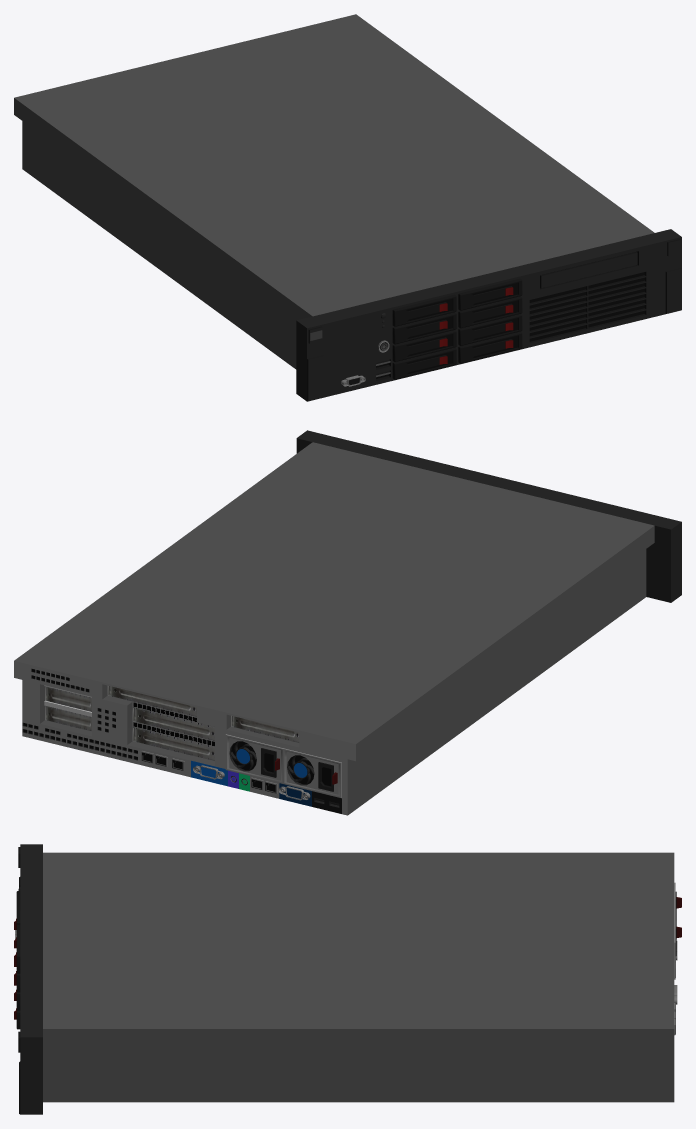
3 renders of one model, top to bottom at view 1: azimuth 30°, elevation 25°; view 2: azimuth 150°, elevation 25°; view 3: azimuth 270°, elevation 25°, orthographic. The views are drawn at different scales.
Parts seen in each view (by area): view 1: HPE_DL380_G7; view 2: HPE_DL380_G7; view 3: HPE_DL380_G7.
Boxes of the visible parts, x1=… form: HPE_DL380_G7: x1=14, y1=14, x2=681, y2=401; HPE_DL380_G7: x1=14, y1=430, x2=681, y2=815; HPE_DL380_G7: x1=14, y1=844, x2=681, y2=1114.
Size of the model in its own units: 475 by 89 by 695.
23 materials, 2 textured.
